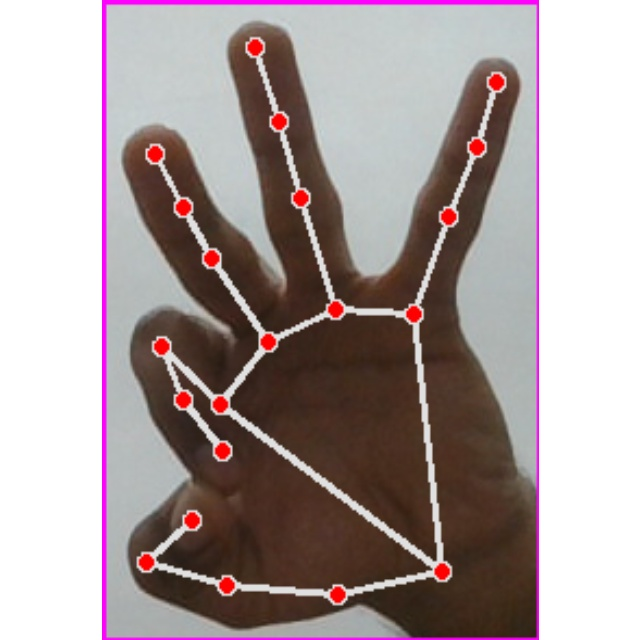F: (102, 0, 539, 640)
